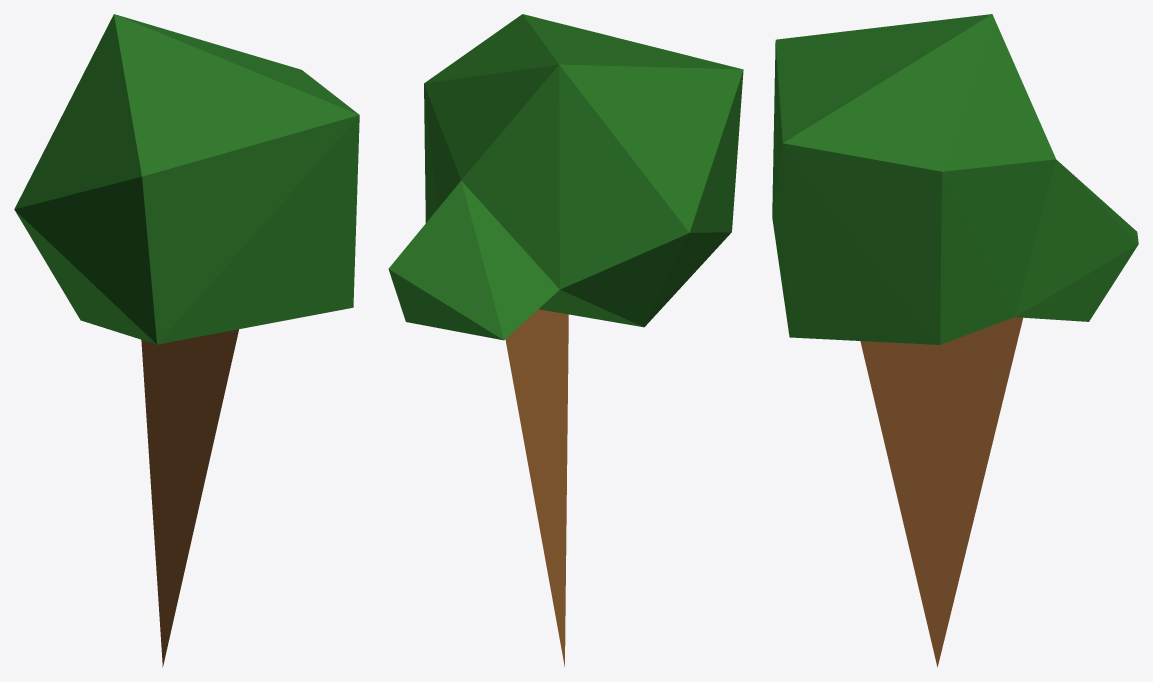
The model's file is TreeBasicLOD0 1.fbx.
3 views of the same model, side by side, from view 1: azimuth 30°, elevation 25°; view 2: azimuth 150°, elevation 25°; view 3: azimuth 270°, elevation 25° (orthographic). The views are drawn at different scales.
Visible parts, largest first — view 1: Cube.002, Cube.003; view 2: Cube.002, Cube.003; view 3: Cube.002, Cube.003.
Part boxes in pixels (x1,y1,x2,y2): Cube.002: (14, 14, 359, 344); Cube.003: (141, 329, 238, 667); Cube.002: (388, 14, 743, 340); Cube.003: (505, 309, 568, 666); Cube.002: (772, 14, 1138, 344); Cube.003: (860, 317, 1022, 667).
Size of the model in its own units: 6.82 by 13.2 by 6.03.
